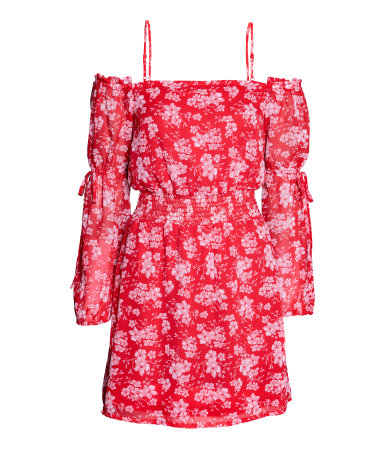onepiece: (0, 0, 384, 449)
